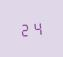four: (31, 20, 42, 36)
two: (19, 21, 30, 37)
